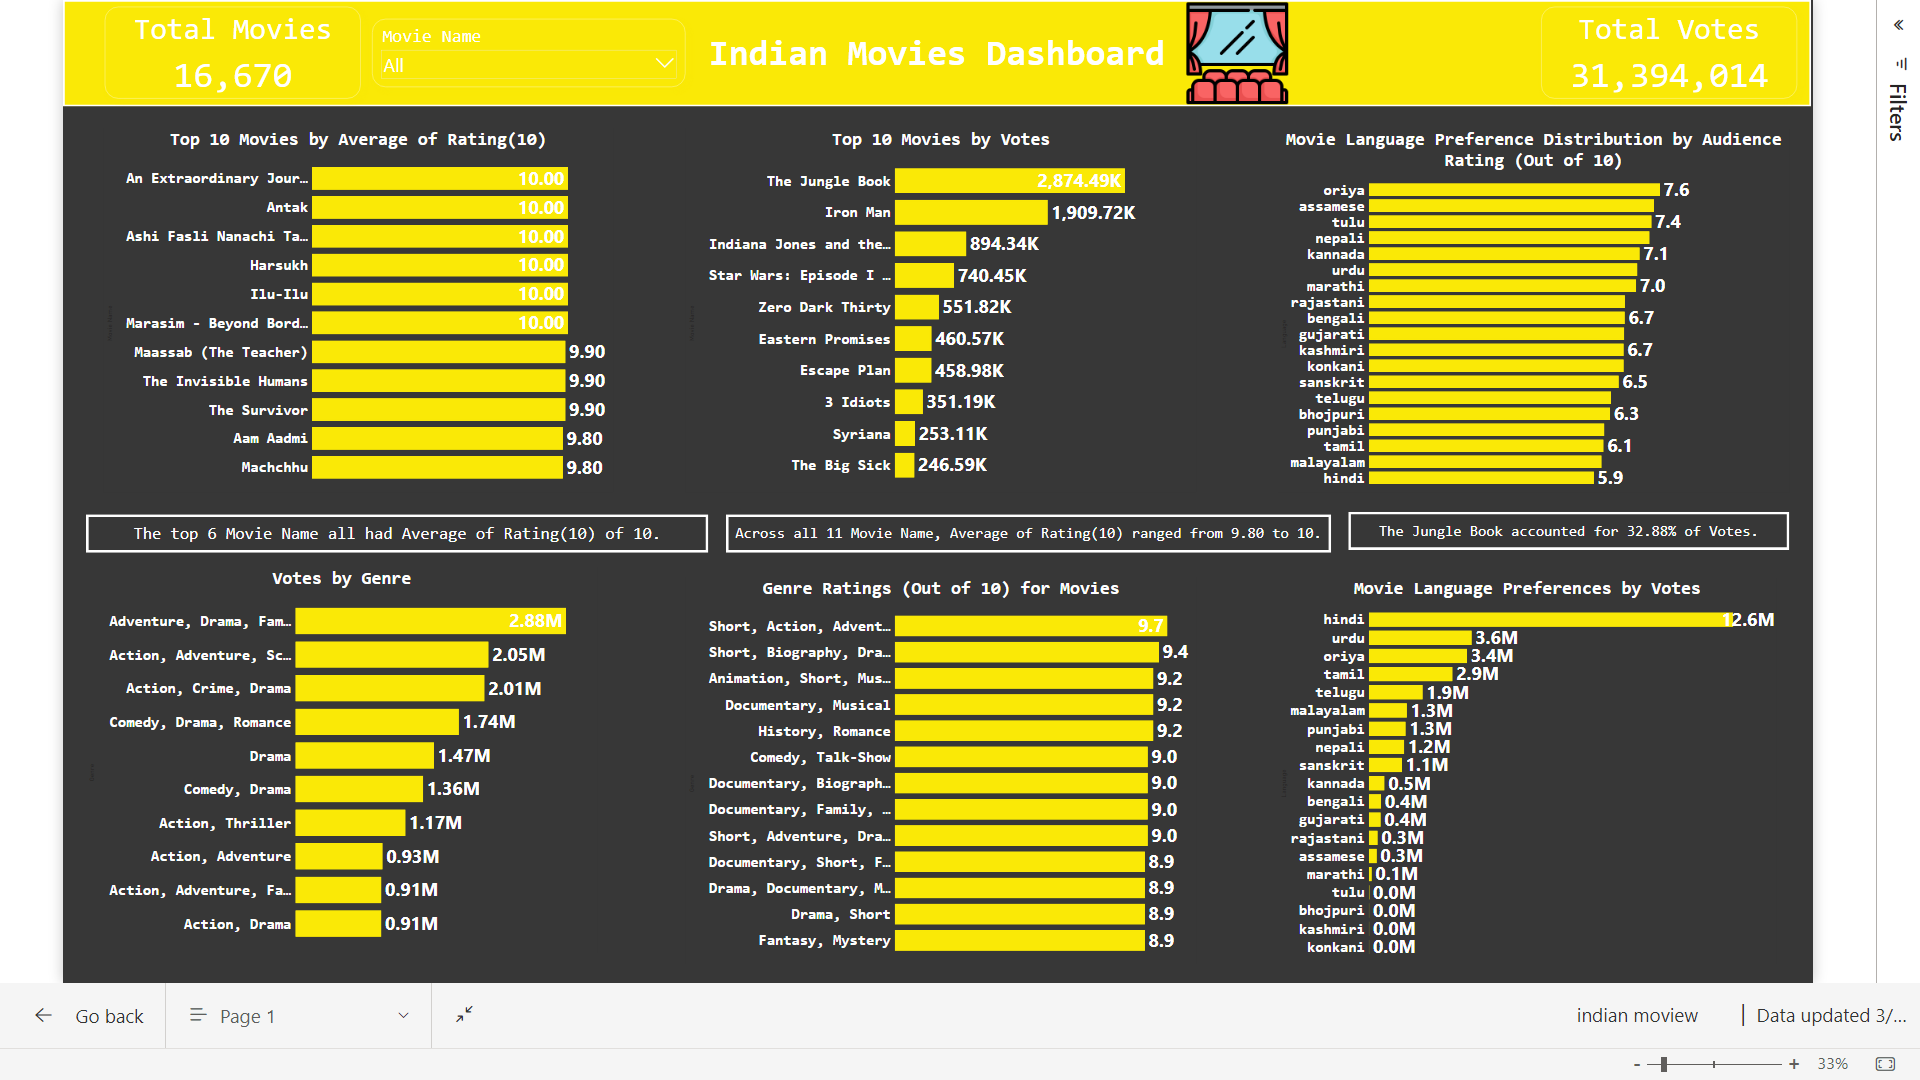

The page's visual inventory and layout, read from the dashboard file:
{"tool":"powerbi","page":{"name":"Page 1","canvas":[3880,2180],"ordinal":0},"visuals":[{"type":"shape","box":[0,0,3877.7,236.4],"z":0},{"type":"card","title":"Total Movies","fields":{"Values":["indian movies.Total Movies"]},"box":[91.4,14.2,567.5,203.3],"z":1000},{"type":"card","title":"Total Votes","fields":{"Values":["Sum(indian movies.Votes)"]},"box":[3278.7,14.2,567.5,203.3],"z":2000},{"type":"image","box":[2321.9,0,567.5,236.4],"z":3000},{"type":"clusteredBarChart","title":"Top 10 Movies by Average of Rating(10)","fields":{"Category":["indian movies.Movie Name"],"Y":["Avg(indian movies.Rating(10))"]},"box":[89.8,283.7,1130.2,808.6],"z":4000},{"type":"clusteredBarChart","title":"Top 10 Movies by Votes","fields":{"Category":["indian movies.Movie Name"],"Y":["Sum(indian movies.Votes)"]},"box":[1380.8,283.7,1134.9,808.6],"z":5000},{"type":"clusteredBarChart","title":"Movie Language Preferences by Votes","fields":{"Category":["indian movies.Language"],"Y":["Sum(indian movies.Votes)"]},"box":[2695.4,1281.5,1106.6,855.9],"z":6000},{"type":"clusteredBarChart","title":"Movie Language Preference Distribution by Audience Rating (Out of 10)","fields":{"Category":["indian movies.Language"],"Y":["Avg(indian movies.Rating(10))"]},"box":[2695.4,283.7,1134.9,808.6],"z":7000},{"type":"clusteredBarChart","title":"Genre Ratings (Out of 10) for Movies","fields":{"Category":["indian movies.Genre"],"Y":["Avg(indian movies.Rating(10))"]},"box":[1380.8,1281.5,1134.9,855.9],"z":8000},{"type":"clusteredBarChart","fields":{"Category":["indian movies.Genre"],"Y":["Sum(indian movies.Votes)"]},"box":[52,1257.9,1134.9,855.9],"z":9000},{"type":"slicer","fields":{"Values":["indian movies.Movie Name"]},"box":[685.7,42.6,695.1,151.3],"z":10000},{"type":"shape","box":[52,1139.7,1380.8,85.1],"z":10001},{"type":"shape","box":[1470.7,1139.7,1343,85.1],"z":10002},{"type":"shape","box":[2851.5,1134.9,978.9,85.1],"z":10003}]}

Visuals, with their boxes on the page's 3880x2180 design canvas (x1, y1, x2, y2). These are canvas units, not pixel positions in the 1920x1080 screenshot, which may show the page scaled, cropped or inside an application window:
shape: (0,0,3878,236)
"Total Movies" card: (91,14,659,218)
"Total Votes" card: (3279,14,3846,218)
image: (2322,0,2889,236)
"Top 10 Movies by Average of Rating(10)" clusteredBarChart: (90,284,1220,1092)
"Top 10 Movies by Votes" clusteredBarChart: (1381,284,2516,1092)
"Movie Language Preferences by Votes" clusteredBarChart: (2695,1282,3802,2137)
"Movie Language Preference Distribution by Audience Rating (Out of 10)" clusteredBarChart: (2695,284,3830,1092)
"Genre Ratings (Out of 10) for Movies" clusteredBarChart: (1381,1282,2516,2137)
clusteredBarChart - indian movies.Genre x Sum(indian movies.Votes): (52,1258,1187,2114)
slicer - indian movies.Movie Name: (686,43,1381,194)
shape: (52,1140,1433,1225)
shape: (1471,1140,2814,1225)
shape: (2852,1135,3830,1220)
